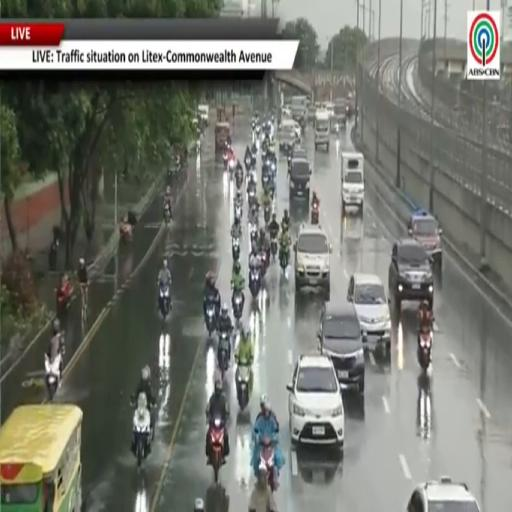bus: (0, 405, 82, 511)
car: (287, 355, 344, 450), (318, 299, 365, 395), (348, 274, 391, 356), (388, 238, 434, 311), (294, 223, 331, 297), (408, 477, 480, 511), (408, 210, 442, 269), (289, 157, 311, 203), (288, 142, 307, 173), (278, 120, 295, 152), (292, 146, 307, 158), (294, 121, 302, 139), (282, 106, 291, 118)
motorcycle: (132, 393, 151, 467), (208, 418, 224, 483), (260, 438, 278, 491), (45, 352, 62, 402), (236, 361, 251, 410), (417, 331, 432, 371), (218, 331, 230, 377), (56, 281, 72, 315), (231, 290, 244, 321), (159, 283, 170, 318), (48, 237, 59, 271), (249, 268, 261, 298), (206, 304, 216, 337), (119, 222, 133, 243), (260, 251, 268, 277), (232, 237, 240, 261), (250, 223, 258, 246), (262, 170, 270, 191), (248, 187, 256, 207), (311, 203, 319, 223), (271, 237, 278, 259), (280, 251, 288, 270), (264, 204, 271, 224), (164, 203, 171, 223), (248, 168, 256, 184), (234, 203, 242, 219), (235, 171, 242, 189), (228, 158, 235, 173), (223, 152, 229, 168), (245, 154, 251, 170), (196, 137, 200, 154), (255, 124, 260, 137), (287, 154, 291, 170)
truck: (291, 95, 306, 125)
